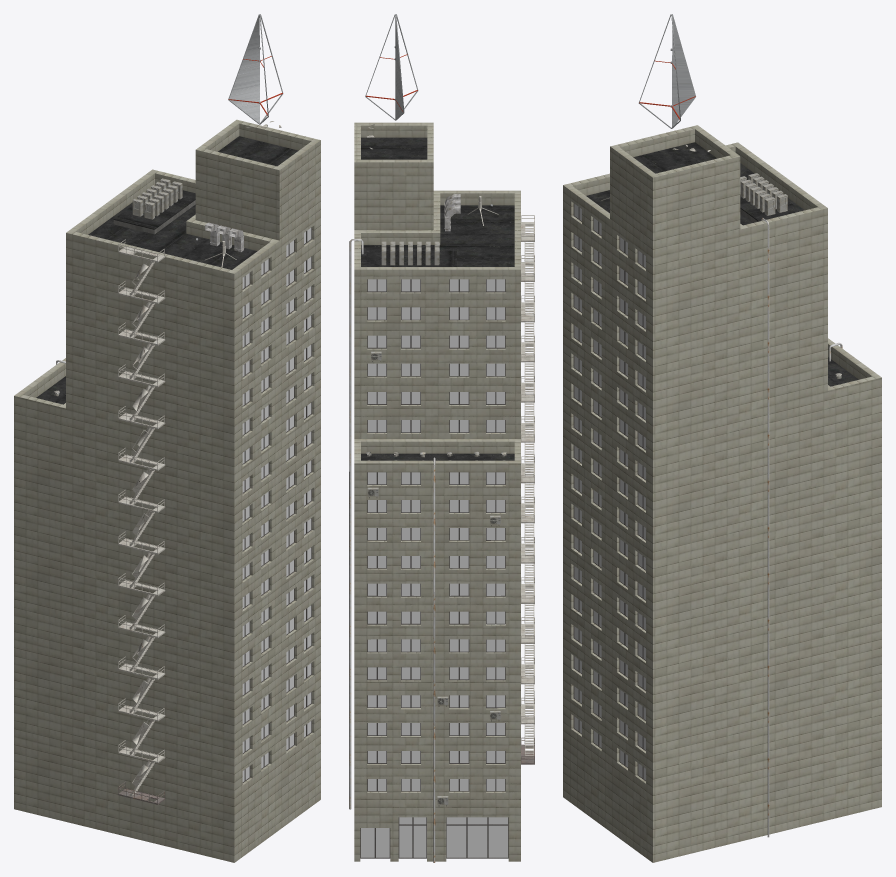
The model's file is KB3D_NEC_BldgLG_A_BuildingB.glb.
The picture shows the model from 3 angles, left to right: view 1: azimuth 30°, elevation 25°; view 2: azimuth 150°, elevation 25°; view 3: azimuth 270°, elevation 25°; orthographic projection. The views are drawn at different scales.
Visible parts, largest first — view 1: KB3D_NEC_BldgLG_A_BuildingB; view 2: KB3D_NEC_BldgLG_A_BuildingB; view 3: KB3D_NEC_BldgLG_A_BuildingB.
Part boxes in pixels (box(x1,y1,x2,y2)): KB3D_NEC_BldgLG_A_BuildingB: box(14, 14, 320, 862); KB3D_NEC_BldgLG_A_BuildingB: box(349, 14, 534, 862); KB3D_NEC_BldgLG_A_BuildingB: box(563, 14, 881, 862).
Size of the model in its own units: 22.67 by 71.42 by 25.11.
Materials: 12 (11 with a texture image).
